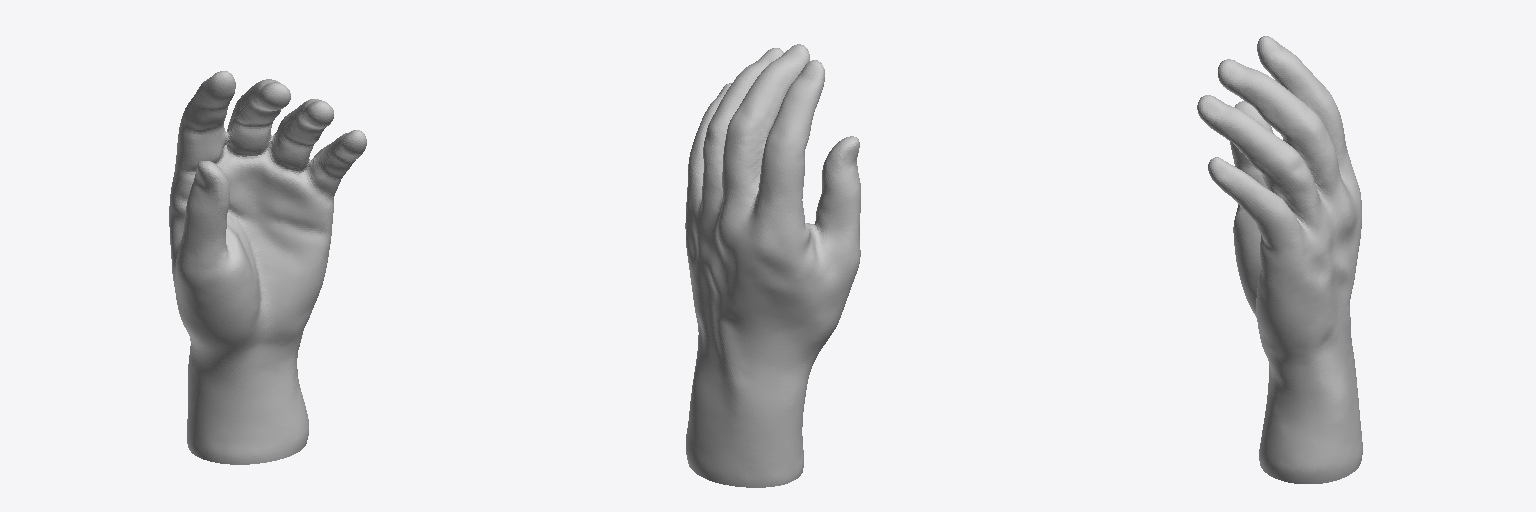
File: polhemus_hand.obj
The picture shows the model from 3 angles: view 1: azimuth 30°, elevation 25°; view 2: azimuth 150°, elevation 25°; view 3: azimuth 270°, elevation 25°; orthographic projection.
Size of the model in its own units: 0.8668 by 2 by 0.752.